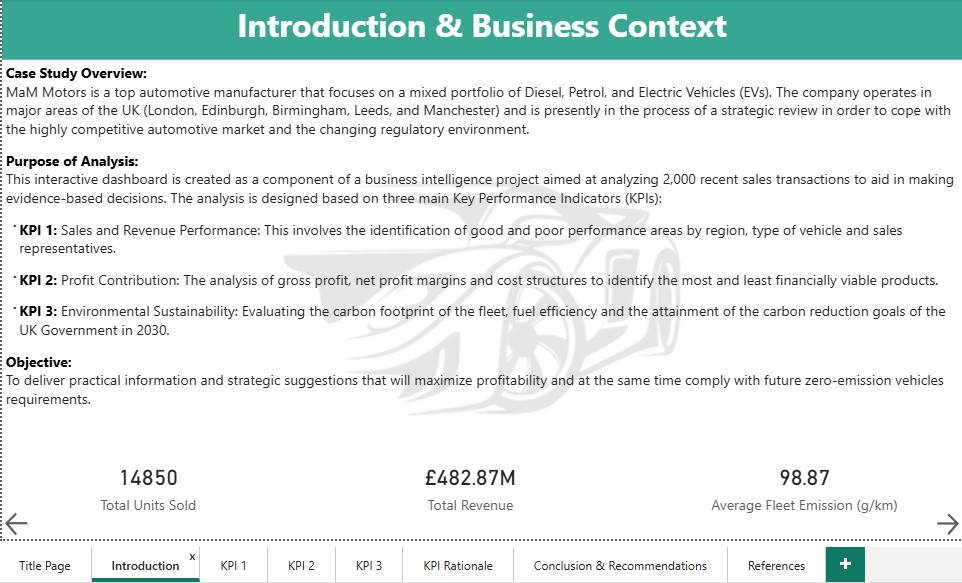

The dashboard page shown, as its layout file describes it:
{"tool":"powerbi","page":{"name":"Introduction","canvas":[1280,720],"ordinal":1},"visuals":[{"type":"image","box":[0,80,1280,640],"z":0},{"type":"textbox","box":[0,0,1280,80.6],"z":1000},{"type":"textbox","box":[0,80.6,1280,495.5],"z":2000},{"type":"card","fields":{"Values":["Sum(EcoDrive Master Data.Units Sold)"]},"box":[0,576.2,389.7,144.5],"z":3000},{"type":"card","fields":{"Values":["EcoDrive Master Data.Total Revenue"]},"box":[389.7,576.2,470.3,144.5],"z":4000},{"type":"card","fields":{"Values":["Avg(EcoDrive Master Data.Carbon Emission (g/km))"]},"box":[860.1,576.2,419.9,144.5],"z":5000},{"type":"actionButton","box":[1241.5,679.9,38.5,39.9],"z":6000},{"type":"actionButton","box":[0,679.9,41.3,39.9],"z":7000}]}

Visuals, with their boxes on the page's 1280x720 design canvas (x1, y1, x2, y2). These are canvas units, not pixel positions in the 962x583 screenshot, which may show the page scaled, cropped or inside an application window:
image: 0, 80, 1280, 720
textbox: 0, 0, 1280, 81
textbox: 0, 81, 1280, 576
card - Sum(EcoDrive Master Data.Units Sold): 0, 576, 390, 721
card - EcoDrive Master Data.Total Revenue: 390, 576, 860, 721
card - Avg(EcoDrive Master Data.Carbon Emission (g/km)): 860, 576, 1280, 721
actionButton: 1242, 680, 1280, 720
actionButton: 0, 680, 41, 720
